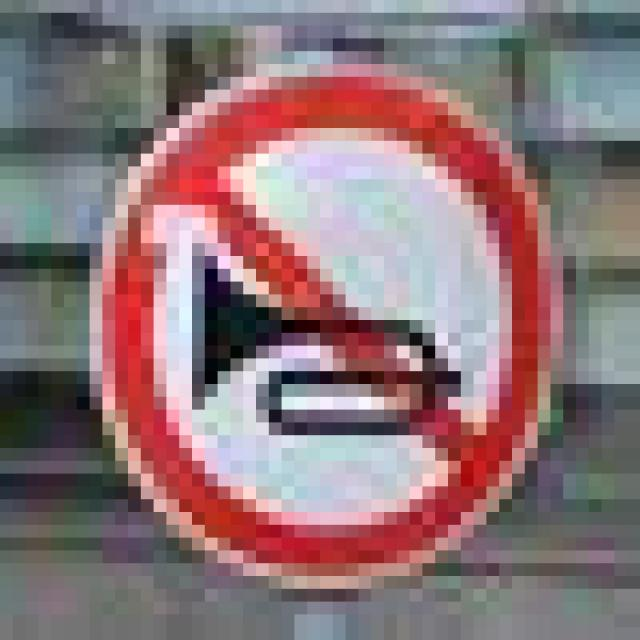HORN_PROHIBITED: (77, 38, 550, 576)
